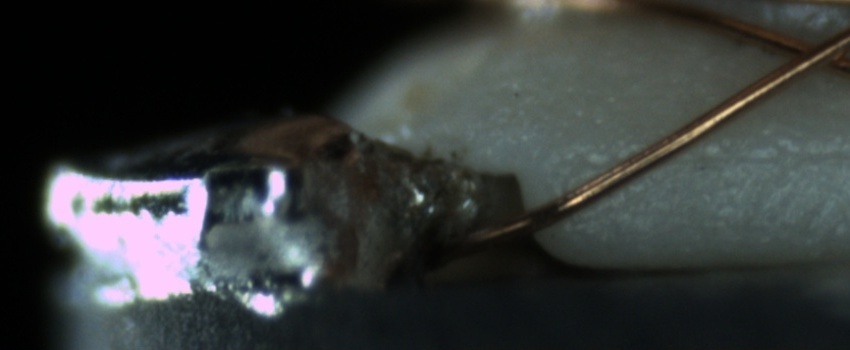CL: (766, 26, 846, 82)
DL: (605, 125, 849, 187)
